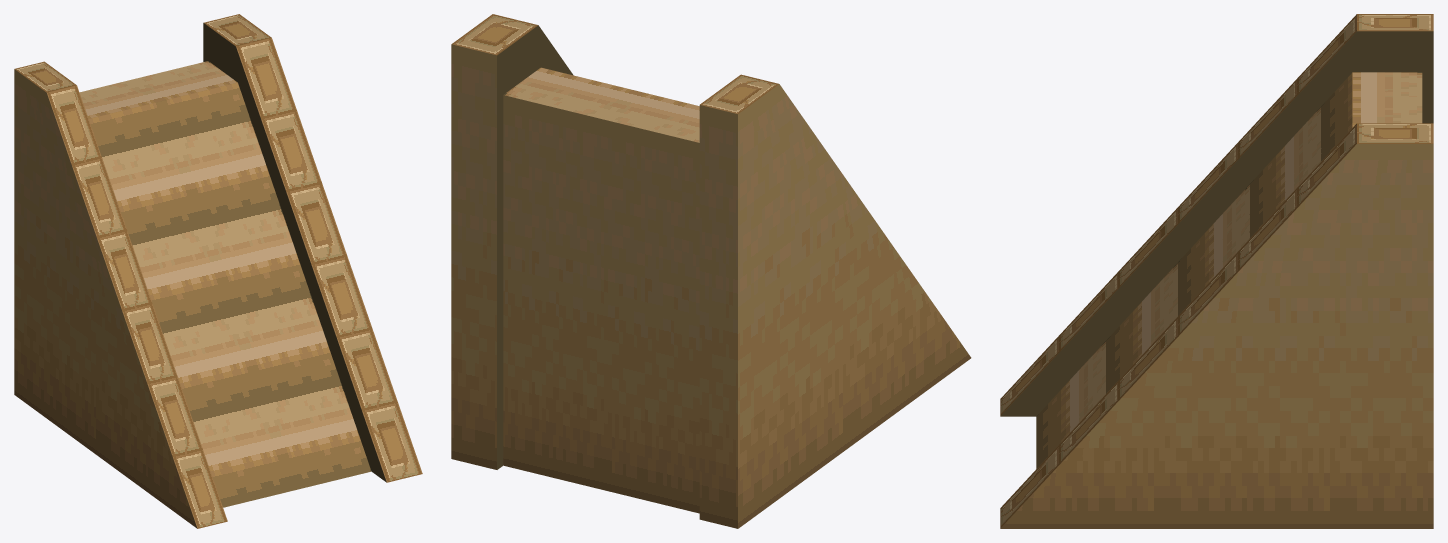
3 views of the same model, side by side, from view 1: azimuth 30°, elevation 25°; view 2: azimuth 150°, elevation 25°; view 3: azimuth 270°, elevation 25° (orthographic). The views are drawn at different scales.
Visible parts, largest first — view 1: polygon0, polygon1, polygon2; view 2: polygon1, polygon0, polygon2; view 3: polygon1, polygon0, polygon2.
Part boxes in pixels (x1=…): polygon0: x1=79, y1=23, x2=386, y2=507; polygon1: x1=14, y1=69, x2=197, y2=528; polygon2: x1=14, y1=14, x2=422, y2=528; polygon1: x1=451, y1=44, x2=971, y2=528; polygon0: x1=497, y1=25, x2=699, y2=469; polygon2: x1=452, y1=14, x2=778, y2=113; polygon1: x1=1000, y1=144, x2=1433, y2=528; polygon0: x1=1000, y1=31, x2=1433, y2=468; polygon2: x1=1000, y1=14, x2=1433, y2=528.
Bounding box in the file's own units: 4.25 × 5.88 × 5.99.
3 materials, 3 textured.
